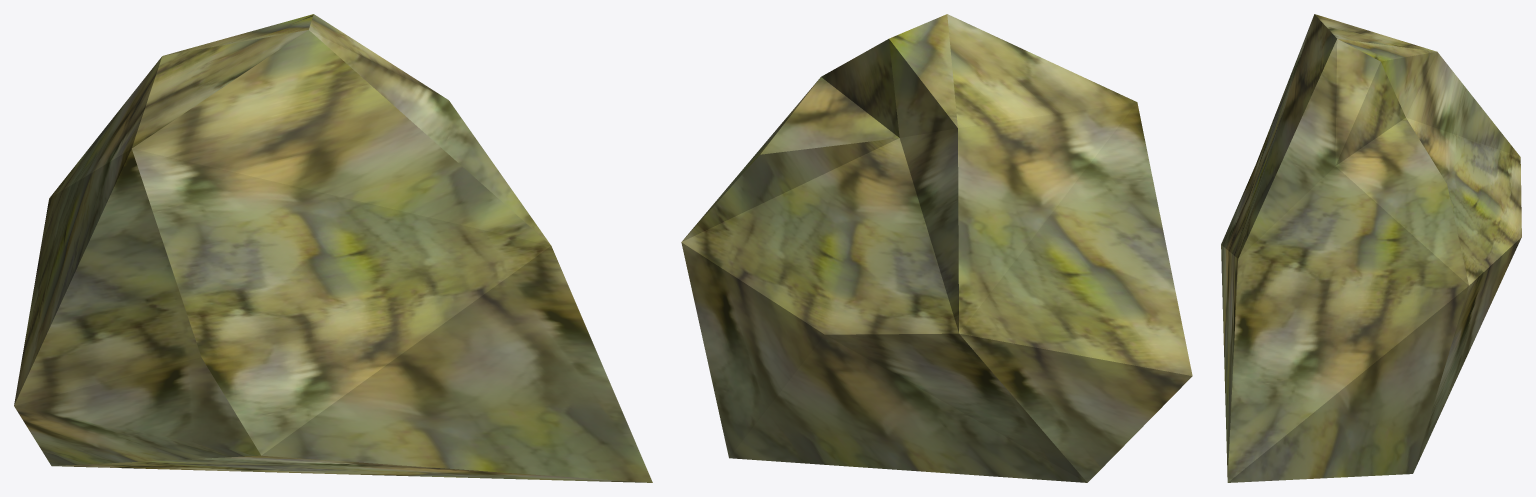
The model's file is Island_1_Rock_2.gltf.
The picture shows the model from 3 angles, left to right: view 1: azimuth 30°, elevation 25°; view 2: azimuth 150°, elevation 25°; view 3: azimuth 270°, elevation 25°; orthographic projection. The views are drawn at different scales.
Visible parts, largest first — view 1: Island_1_Rock_2; view 2: Island_1_Rock_2; view 3: Island_1_Rock_2.
Boxes of the visible parts, x1,y1,x2,y2 form: Island_1_Rock_2: (14,14,652,482); Island_1_Rock_2: (681,14,1192,482); Island_1_Rock_2: (1221,14,1521,482).
Bounding box in the file's own units: 4.77 × 4.08 × 3.03.
1 material, 1 textured.
